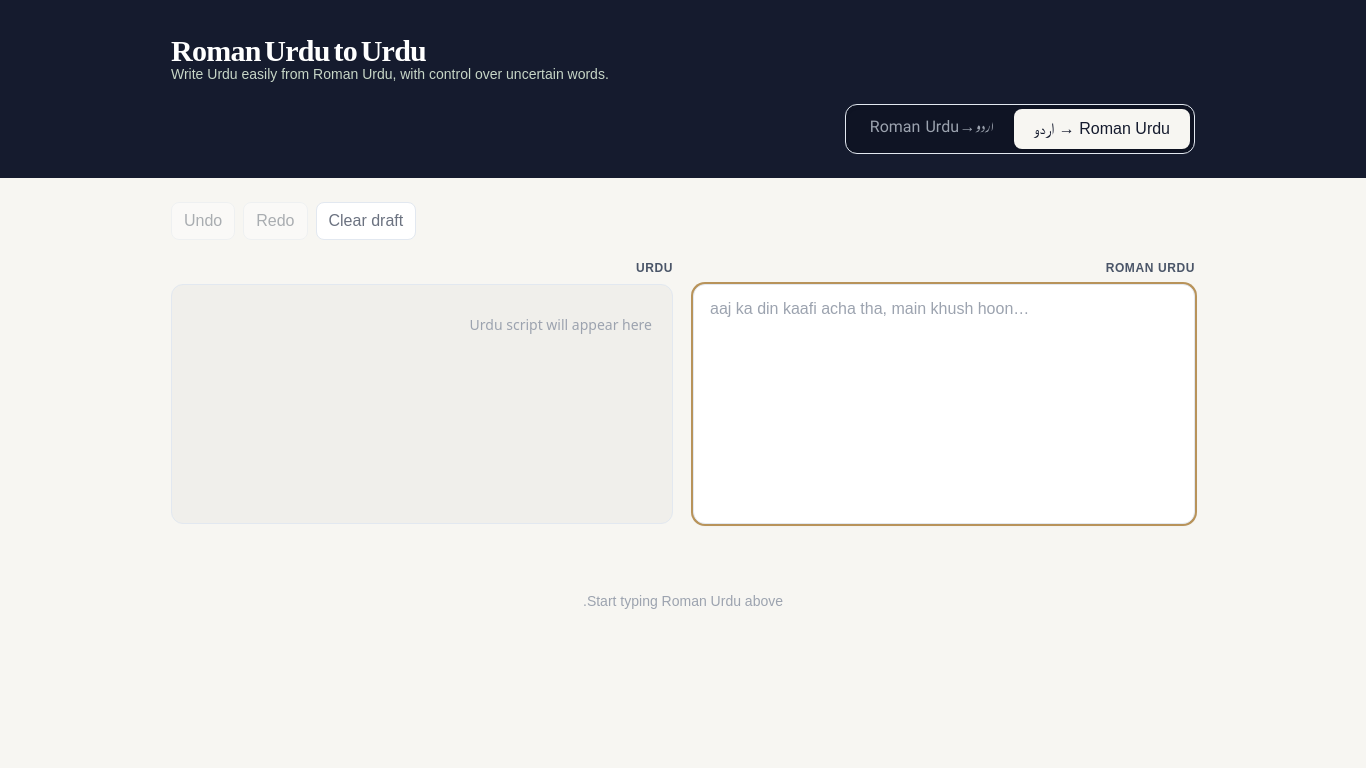
Test: 21. Copy success feedback
In the text box with id "roman-input": x=944, y=404 [693,284,1195,524], type "aaj theek hai"
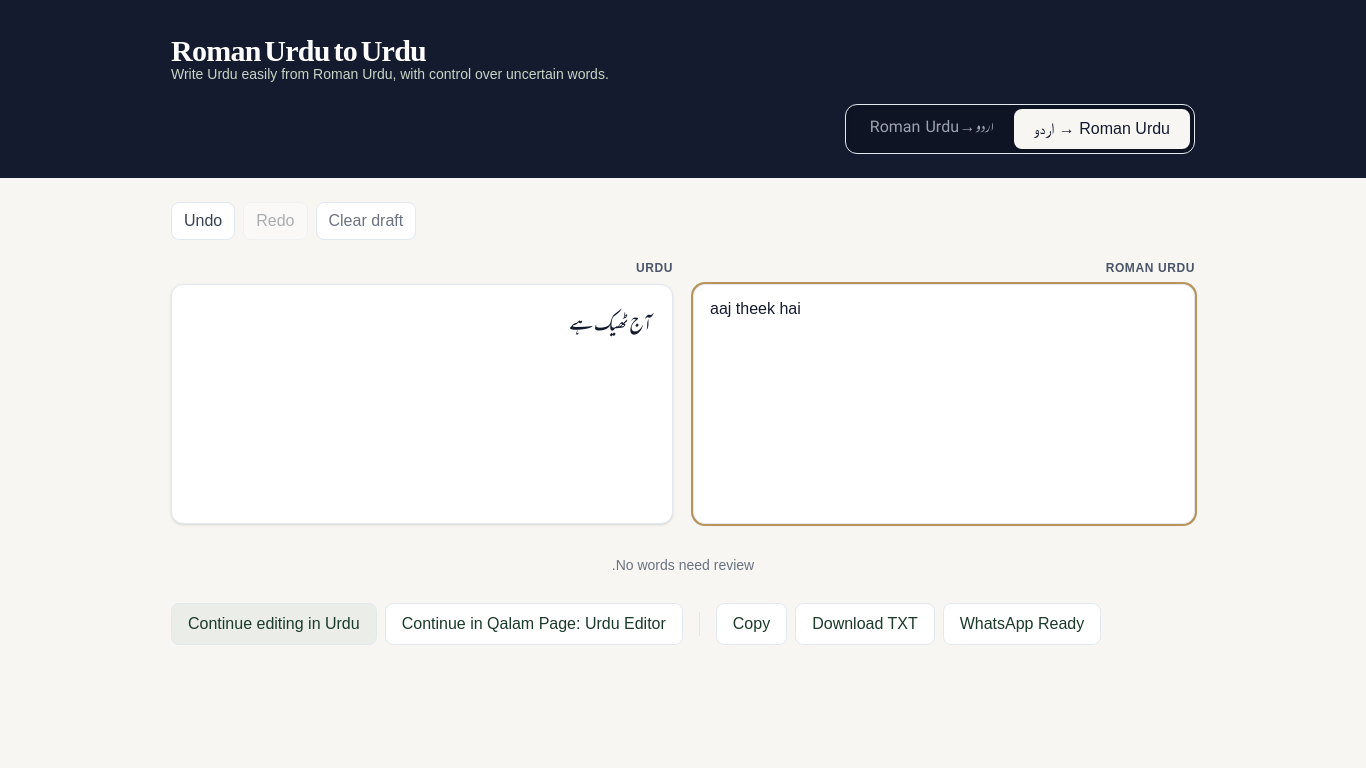
Click the button with test id "writer-copy": x=752, y=624 [716,603,787,645]
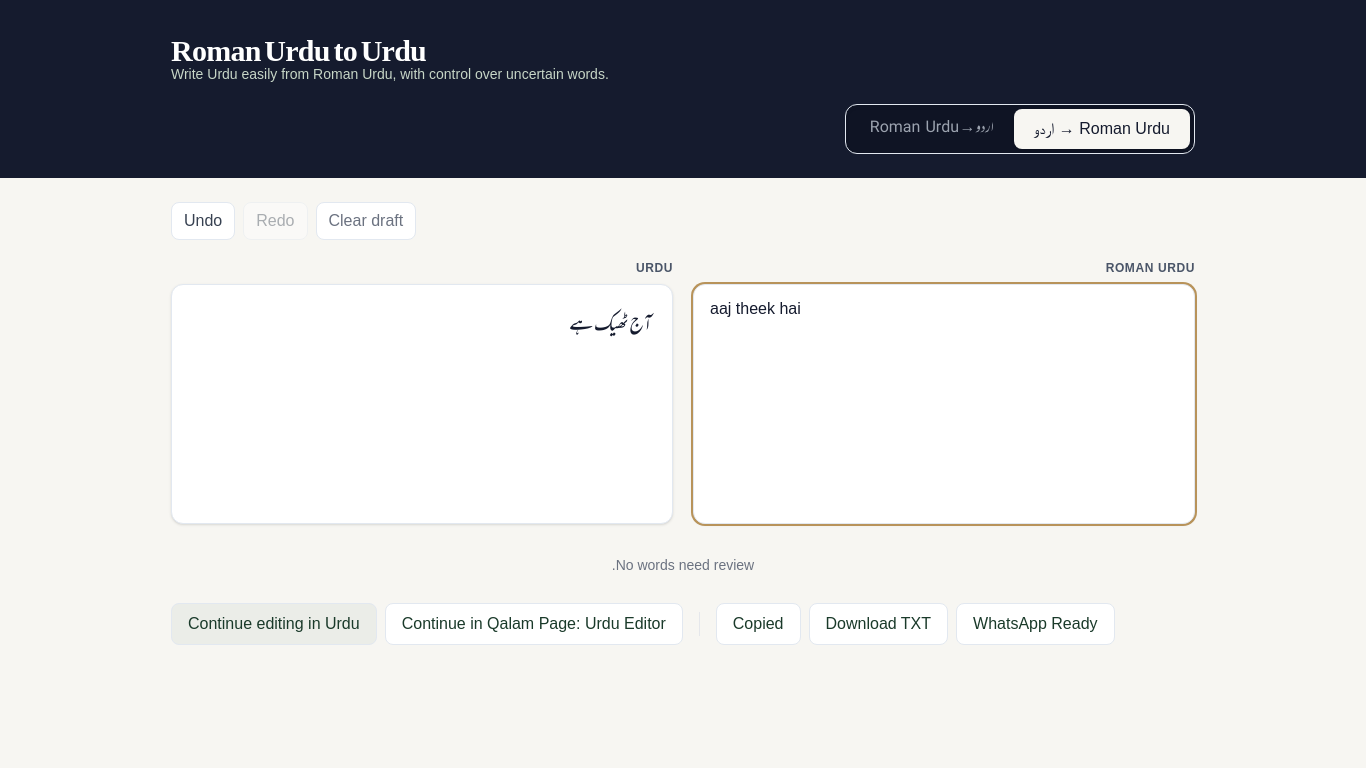
Expected: the button with test id "writer-copy" reads "Copied", [716,603,800,645]
